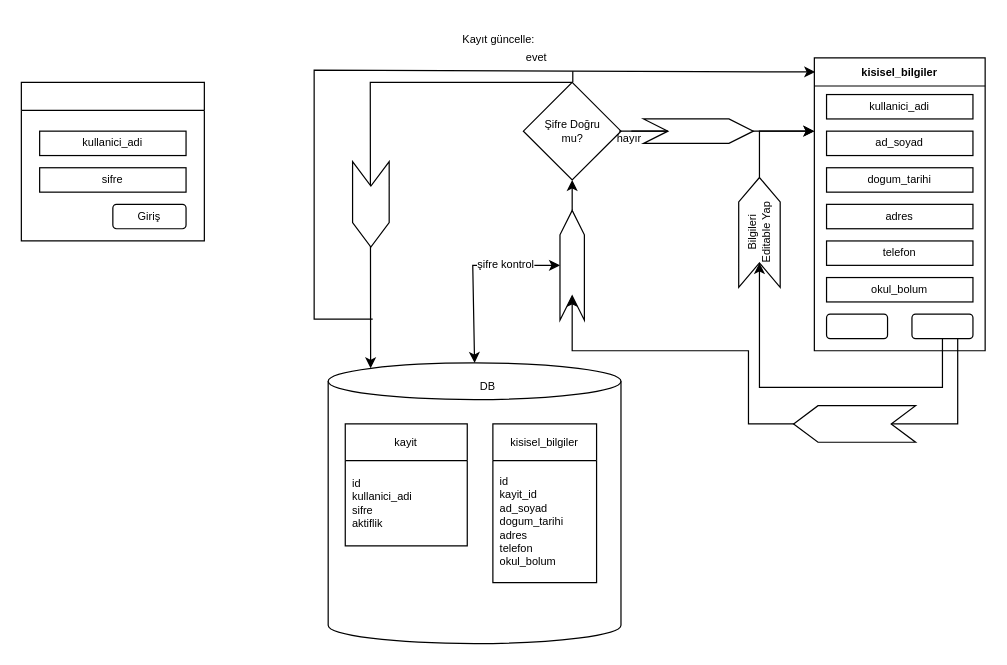
Some shapes in this 1007 by 665 pixel diagram are drawn without their labels. Here are the shapes that lost their labels. From the top down, the box of each, then its label:
(642, 118, 753, 143): şifre yanlış hatsı versin
(20, 81, 204, 241): Login Kayıt Ekranı
(351, 160, 389, 247): bilgileri kaydet
(559, 209, 584, 320): şifre iste
(825, 313, 888, 339): Sil
(911, 313, 973, 339): Güncelle
(792, 404, 916, 442): bilgiler editable ise
